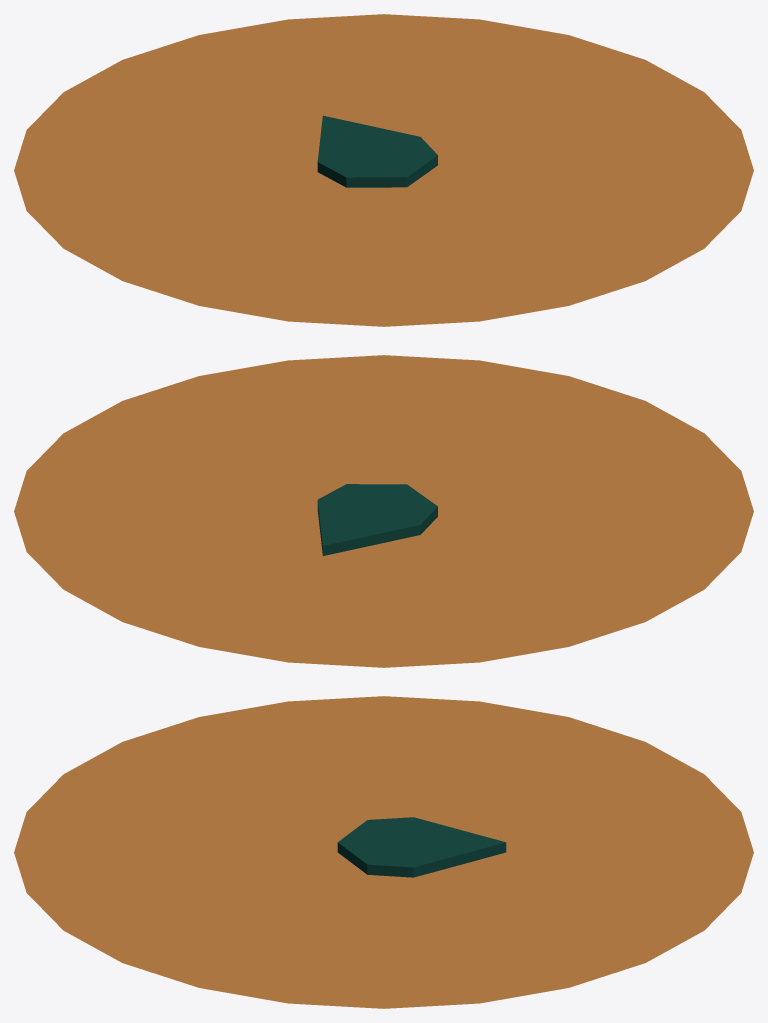
Rendered from StartMedallion.fbx.
The picture shows the model from 3 angles, top to bottom: view 1: azimuth 30°, elevation 25°; view 2: azimuth 150°, elevation 25°; view 3: azimuth 270°, elevation 25°; orthographic projection.
Visible parts, largest first — view 1: StartMedallion; view 2: StartMedallion; view 3: StartMedallion.
Part boxes in pixels (bbox=[...]): StartMedallion: bbox=[14, 14, 753, 326]; StartMedallion: bbox=[14, 355, 753, 667]; StartMedallion: bbox=[14, 696, 753, 1008].
Bounding box in the file's own units: 2.24 × 0.04 × 2.24.
